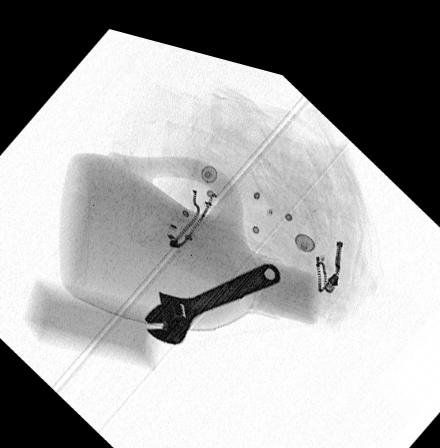Wrench: (143, 246, 281, 337)
